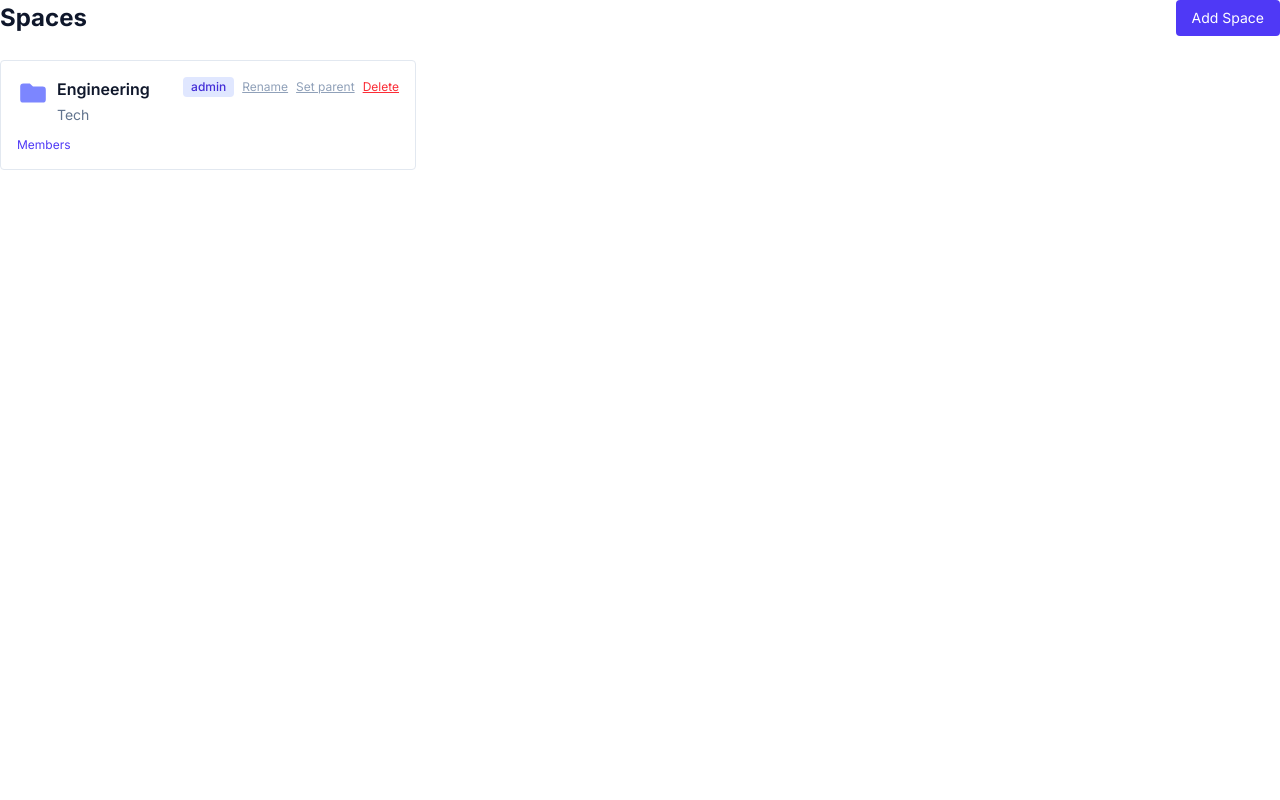
DeleteSpaceModal › shows an error and keeps the tile when the password is wrong
Expected: the heading "Engineering" is shown, [57,77,150,101]
Click the button "Delete" at (381, 87), box [363,79,399,95]
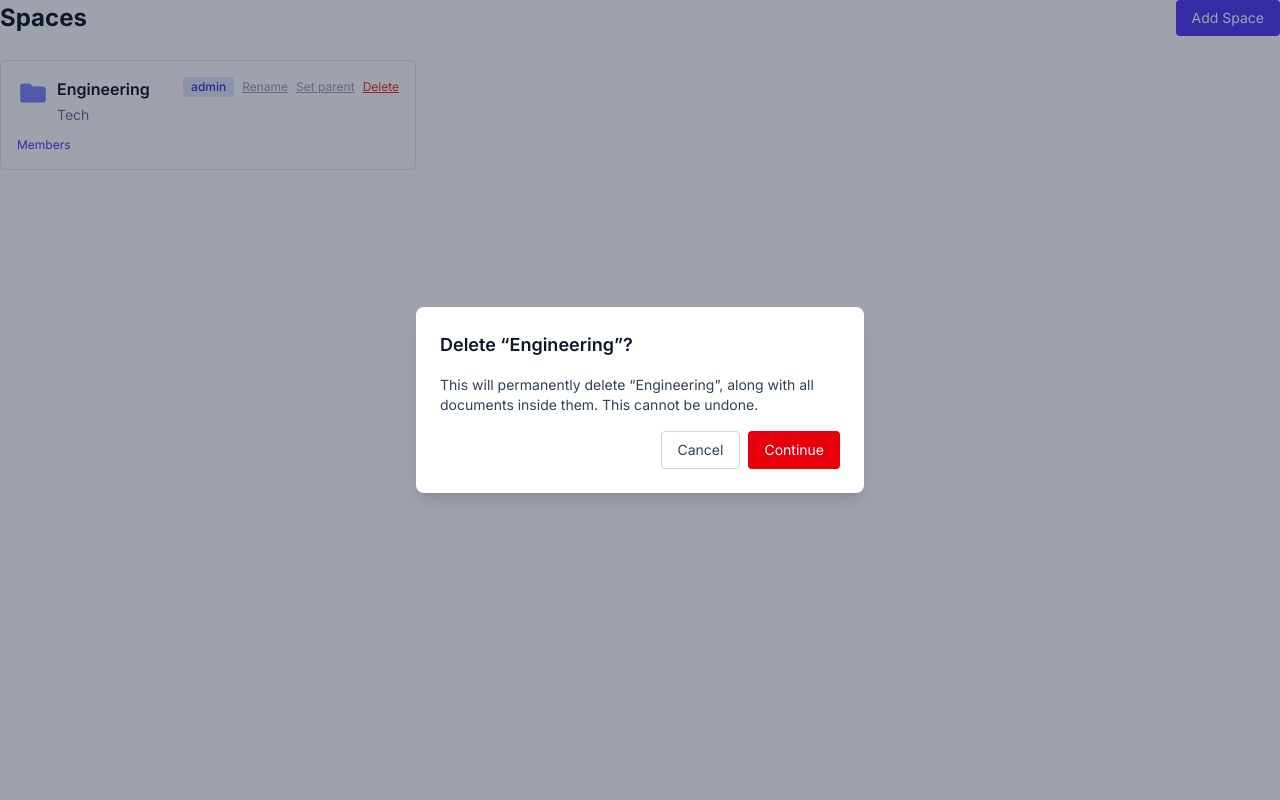
Click the button "Continue" at (794, 450), box [748,431,840,469]
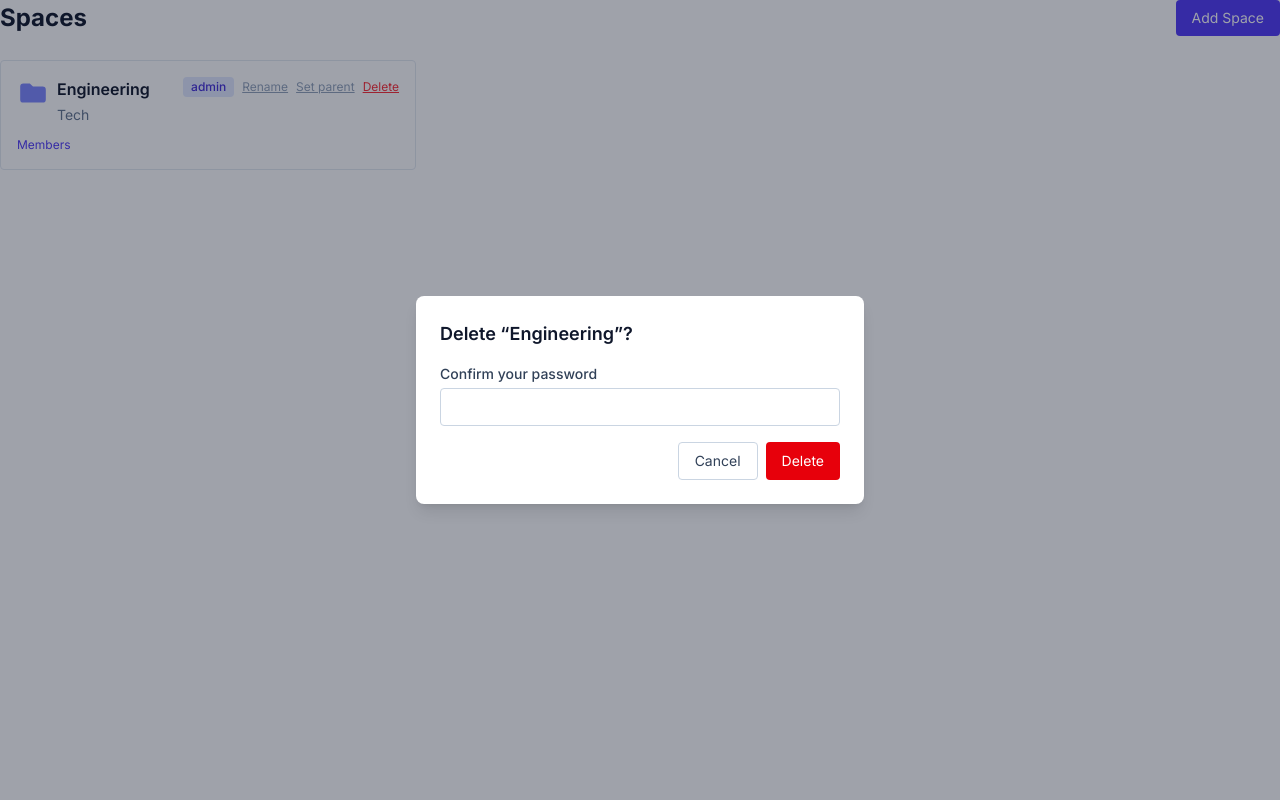
Expected: the password field labelled "Confirm your password" is shown
Type "wrong" into the password field labelled "Confirm your password" at (640, 407), box [440,388,840,426]
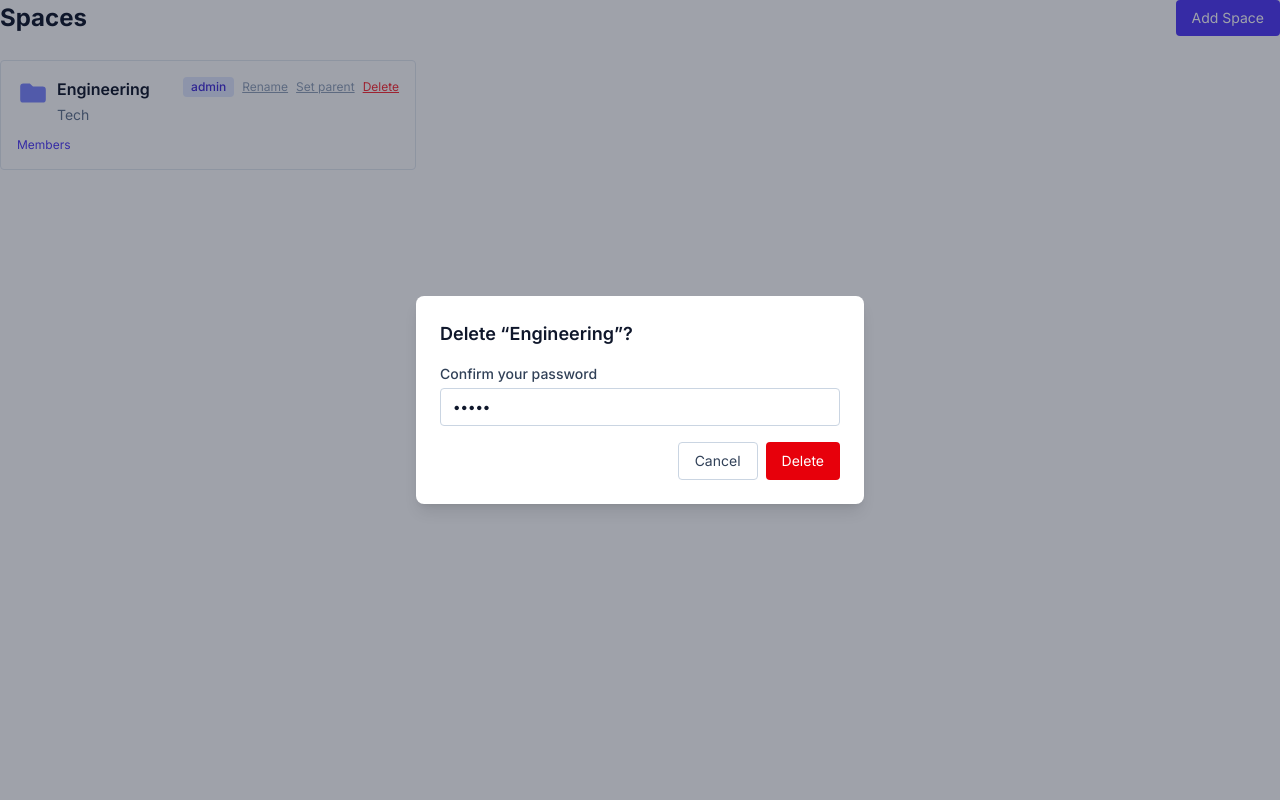
Click the button "Delete" at (803, 461), box [766,442,840,480]
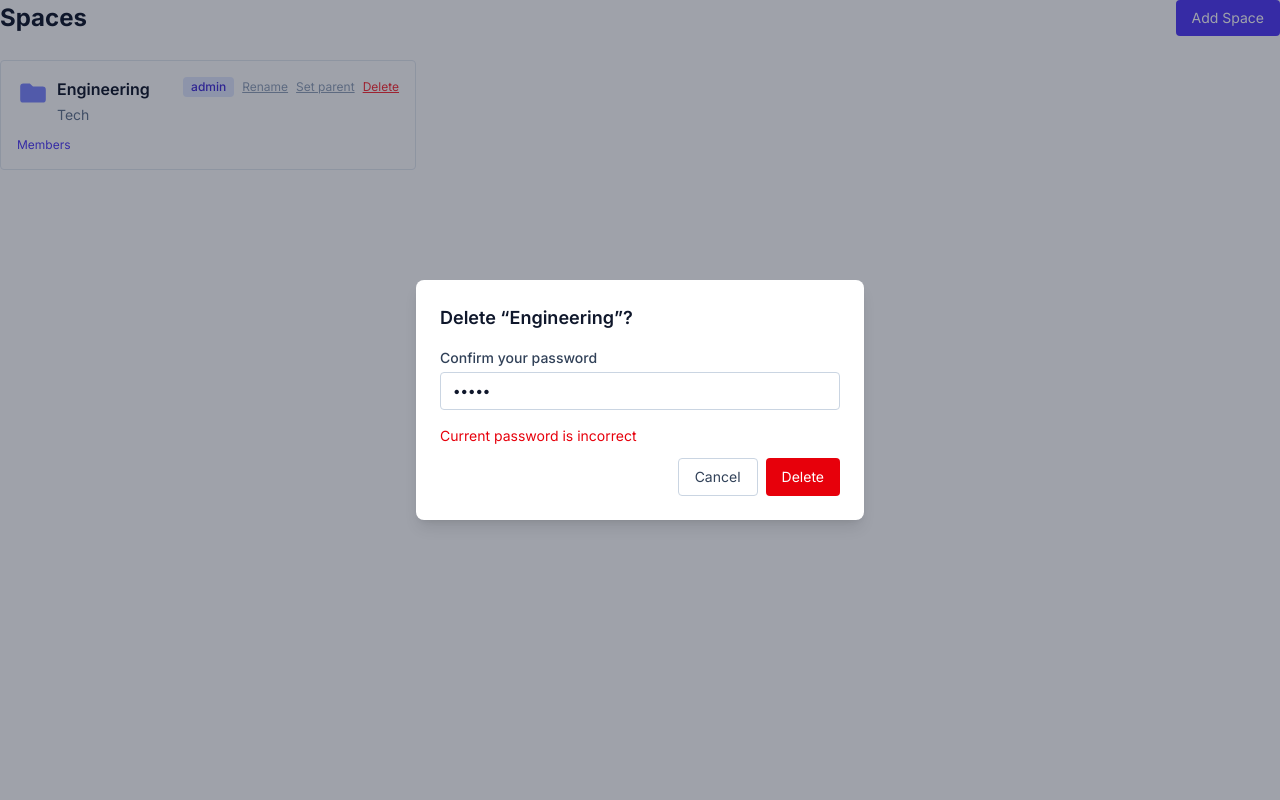
Expected: the heading "Engineering" is shown, [57,77,150,101]
Expected: the message shows "incorrect", [440,427,636,444]
